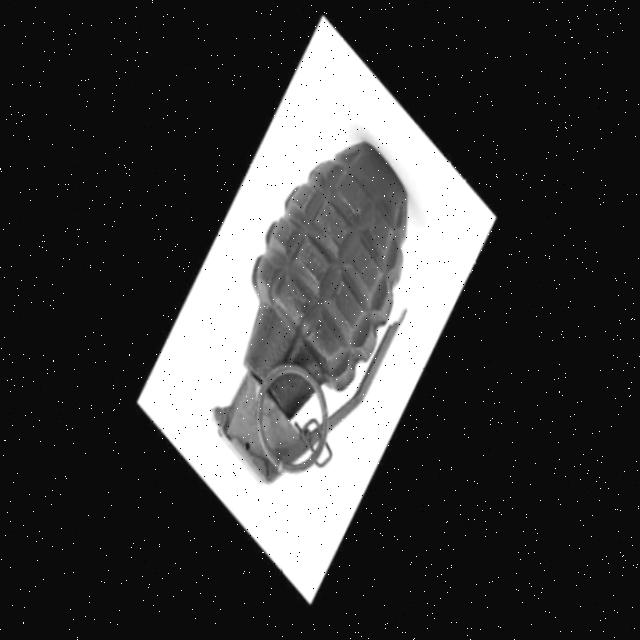grenade: (146, 99, 472, 524)
